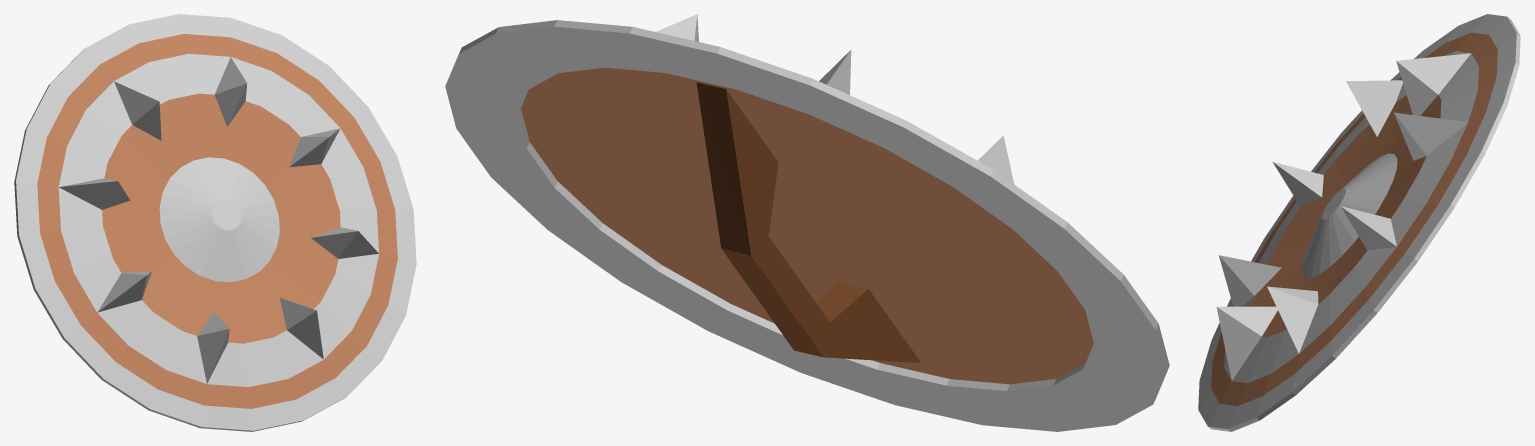
The model's file is spiked_shield.obj.
3 views of the same model, side by side, from view 1: azimuth 30°, elevation 25°; view 2: azimuth 150°, elevation 25°; view 3: azimuth 270°, elevation 25° (orthographic). The views are drawn at different scales.
Parts seen in each view (by area): view 1: Mesh1 spiked_shield1 Model; view 2: Mesh1 spiked_shield1 Model; view 3: Mesh1 spiked_shield1 Model.
Boxes of the visible parts, x1=… form: Mesh1 spiked_shield1 Model: x1=14, y1=14, x2=416, y2=431; Mesh1 spiked_shield1 Model: x1=445, y1=14, x2=1169, y2=431; Mesh1 spiked_shield1 Model: x1=1198, y1=14, x2=1520, y2=431.
Bounding box in the file's own units: 0.9949 × 0.7784 × 0.6352.
